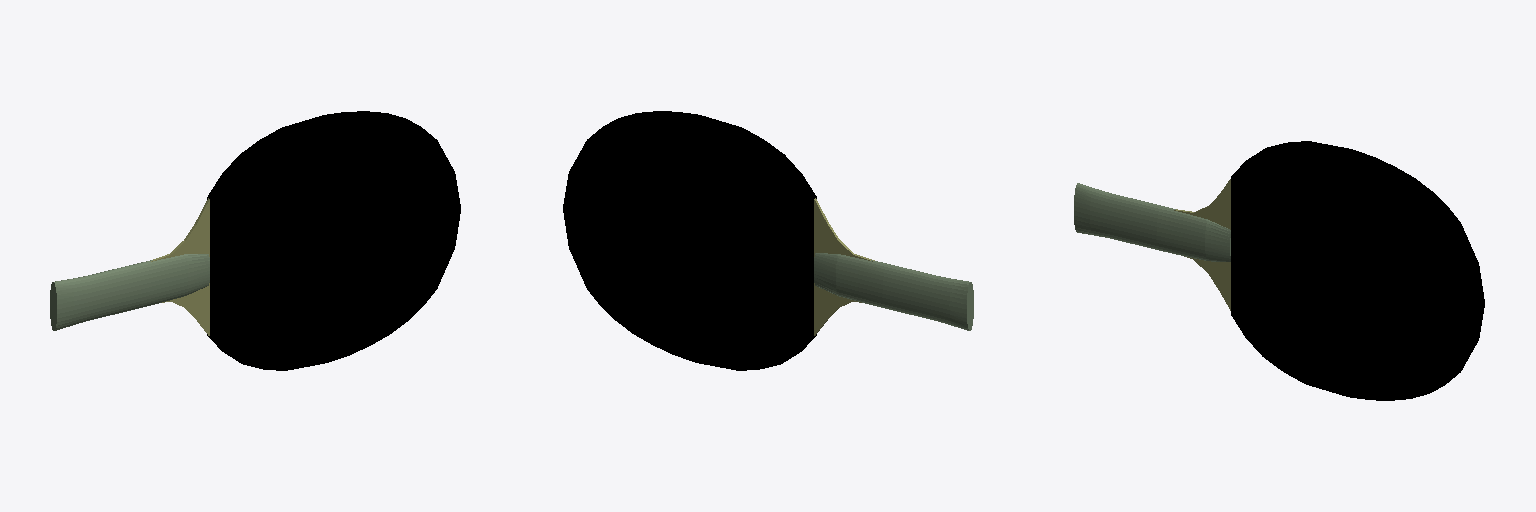
The model's file is racket3.obj.
3 renders of one model, left to right at view 1: azimuth 30°, elevation 25°; view 2: azimuth 150°, elevation 25°; view 3: azimuth 330°, elevation 25°, orthographic.
Parts seen in each view (by area): view 1: Cylinder03, Cylinder01, Cylinder02; view 2: Cylinder03, Cylinder01, Cylinder02; view 3: Cylinder03, Cylinder01, Cylinder02.
Part boxes in pixels (x1,y1,x2,y2): Cylinder03: (207, 111, 460, 370); Cylinder01: (50, 254, 209, 330); Cylinder02: (151, 198, 209, 335); Cylinder03: (563, 111, 816, 370); Cylinder01: (814, 253, 973, 330); Cylinder02: (814, 198, 874, 335); Cylinder03: (1231, 141, 1484, 400); Cylinder01: (1074, 183, 1230, 261); Cylinder02: (1174, 179, 1230, 310).
Bounding box in the file's own units: 388 × 225 × 14.31.